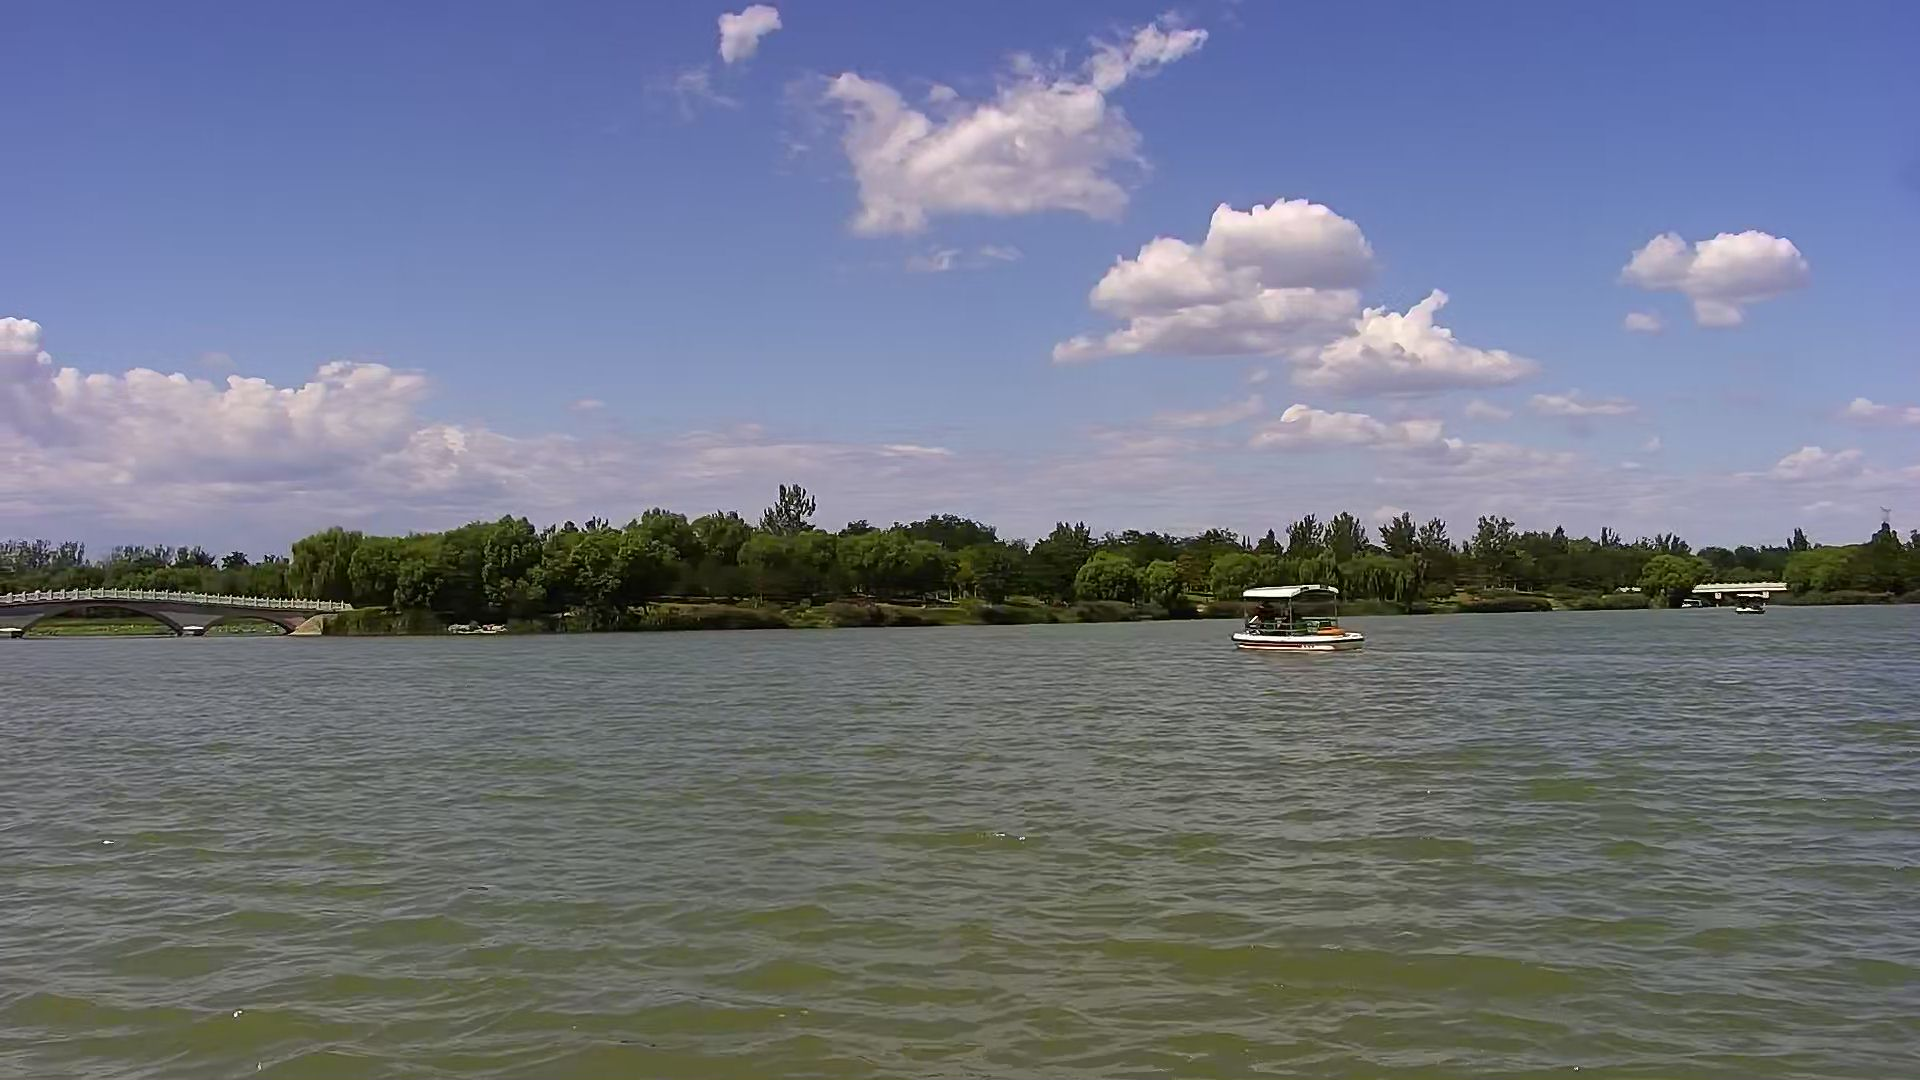boat: (1233, 585, 1364, 654)
bridge: (1, 583, 334, 645), (1696, 582, 1778, 604)
